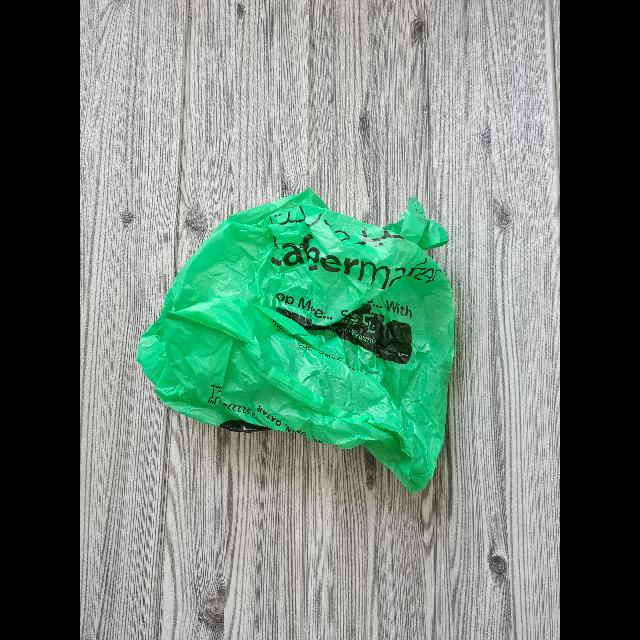plastic_bag: (130, 175, 476, 503)
